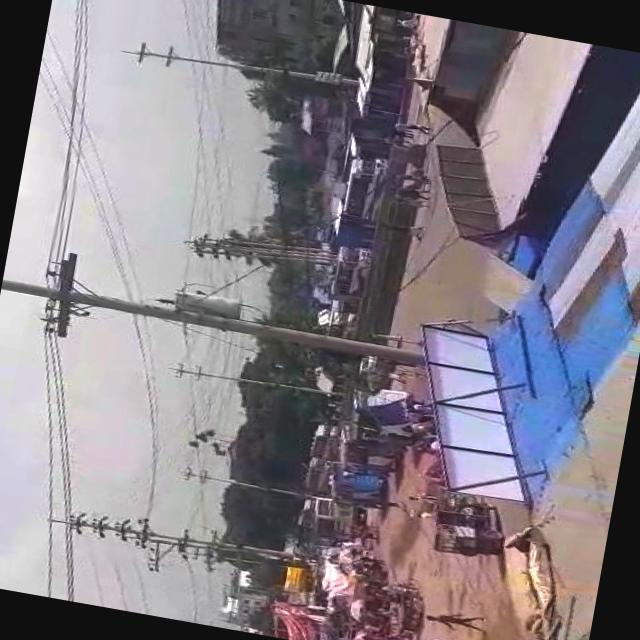bus: (348, 378, 419, 453), (334, 155, 392, 224), (324, 240, 372, 303), (308, 496, 368, 544), (318, 466, 381, 508), (319, 306, 362, 342), (302, 421, 337, 465)
car: (344, 356, 396, 394)
motorcycle: (420, 487, 504, 564)
